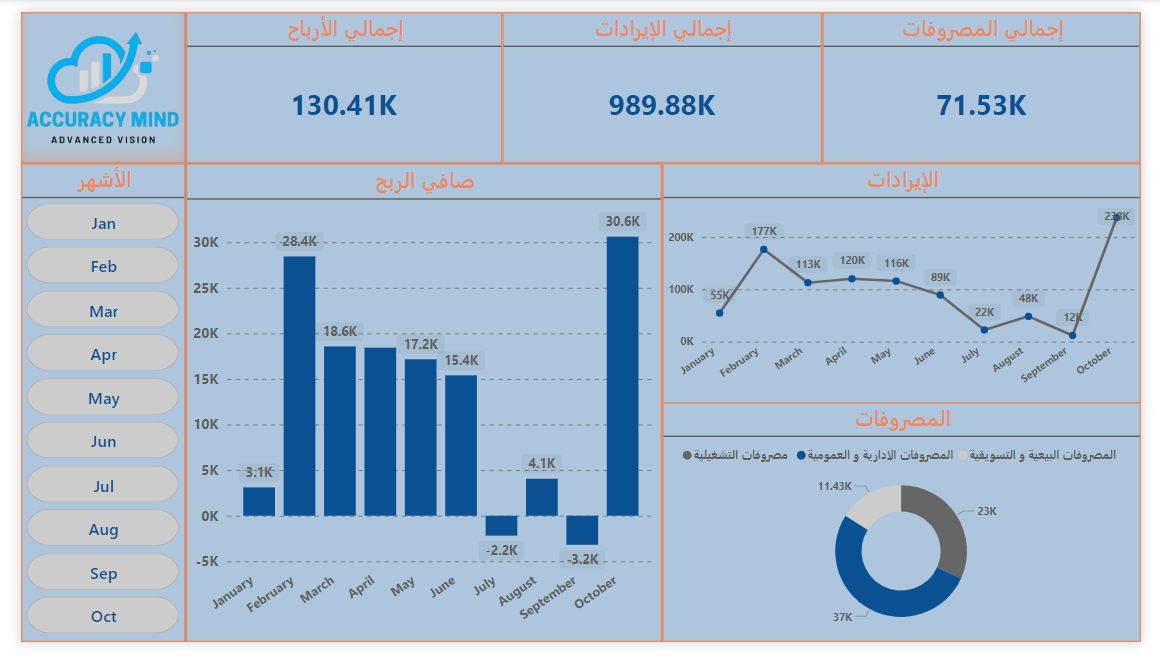

The page's visual inventory and layout, read from the dashboard file:
{"tool":"powerbi","page":{"name":"Page 1","canvas":[1280,720],"ordinal":0},"visuals":[{"type":"image","box":[0,0,188,172.9],"z":0},{"type":"donutChart","title":"المصروفات","fields":{"Y":["Sum(TheIncome.اجمالى مصروفات التشغيلية )","Sum(TheIncome.اجمالي المصروفات الادارية و العمومية)","Sum(TheIncome.المصروفات البيعية و التسويقية)"]},"box":[732.9,445.7,547.1,274.3],"z":1000},{"type":"lineChart","title":"الإيرادات","fields":{"Y":["Sum(TheIncome.اجمالى الايراد)"],"Category":["TheIncome.NewDateColumn.Variation.Date Hierarchy.Month"]},"box":[732.9,172.9,547.1,274.3],"z":2000},{"type":"clusteredColumnChart","title":"صافي الربح","fields":{"Category":["TheIncome.NewDateColumn.Variation.Date Hierarchy.Month"],"Y":["Sum(TheIncome.صافى الربح )"]},"box":[188.6,172.9,544.3,547.1],"z":3000},{"type":"card","title":"إجمالي الإيرادات","fields":{"Values":["Sum(TheIncome.اجمالى الايراد)"]},"box":[550,0,365.7,172.9],"z":4000},{"type":"card","title":"إجمالي الأرباح","fields":{"Values":["Sum(TheIncome.صافى الربح )"]},"box":[188.6,0,361.4,172.9],"z":6000},{"type":"card","title":"إجمالي المصروفات","fields":{"Values":["Sum(TheIncome.اجمالى المصروفات )"]},"box":[915.7,0,364.3,172.9],"z":7000},{"type":"advancedSlicerVisual","title":"الأشهر","fields":{"Values":["TheIncome.الاشهر"]},"box":[0,172.5,188,547.5],"z":8000}]}

Visuals, with their boxes in screenshot pixels (x1, y1, x2, y2), scaled from the page's 1280x720 canvas onto the 1160x656 screenshot:
image: (x1=0, y1=0, x2=170, y2=158)
"المصروفات" donutChart: (x1=664, y1=406, x2=1159, y2=655)
"الإيرادات" lineChart: (x1=664, y1=158, x2=1159, y2=407)
"صافي الربح" clusteredColumnChart: (x1=171, y1=158, x2=664, y2=655)
"إجمالي الإيرادات" card: (x1=498, y1=0, x2=830, y2=158)
"إجمالي الأرباح" card: (x1=171, y1=0, x2=498, y2=158)
"إجمالي المصروفات" card: (x1=830, y1=0, x2=1159, y2=158)
"الأشهر" advancedSlicerVisual: (x1=0, y1=157, x2=170, y2=655)
